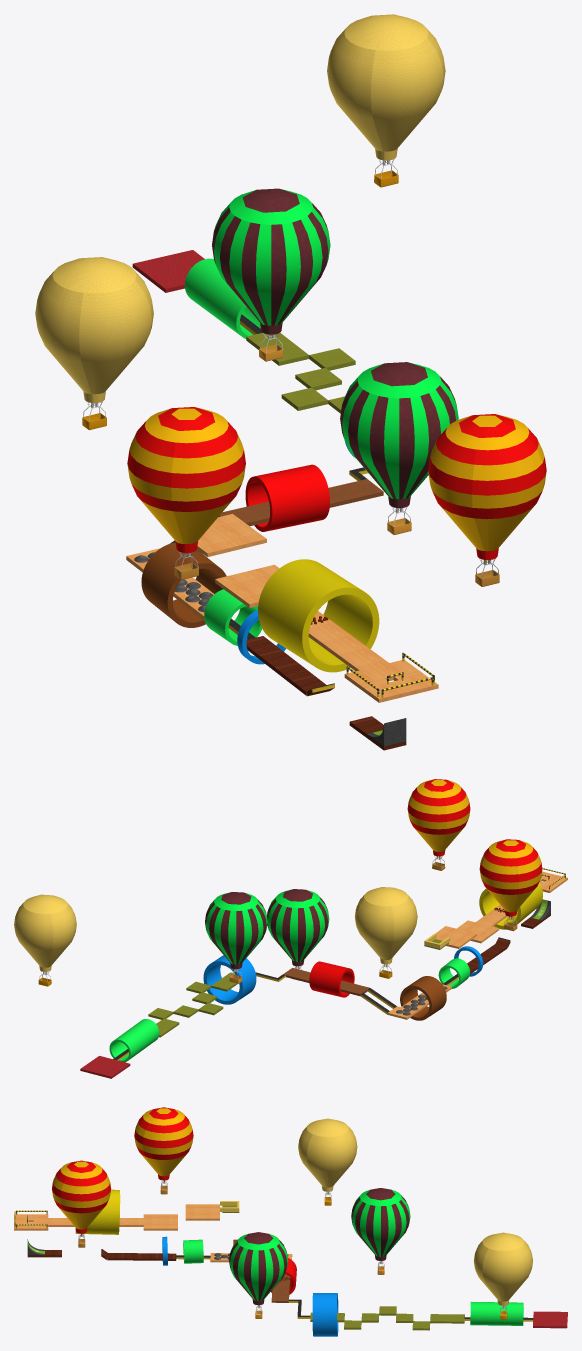
File: LEVEL 13.fbx
3 views of the same model, one above another, from view 1: azimuth 30°, elevation 25°; view 2: azimuth 150°, elevation 25°; view 3: azimuth 270°, elevation 25° (orthographic). The views are drawn at different scales.
Visible parts, largest first — view 1: ballon_1, ballon_3, ballon, ballon_2, ballon_4, ballon_5, yellow_ring, red_ring, orange_ring, polySurface5, green_ring, polySurface10 (+8 smaller); view 2: ballon_2, ballon_1, ballon_4, ballon_3, ballon, ballon_5, polySurface5, blue_ring__1_, green_ring, orange_ring, red_ring, yellow_ring (+7 smaller); view 3: ballon_1, ballon_2, ballon, ballon_4, ballon_3, ballon_5, polySurface5, green_ring, blue_ring__1_, yellow_ring, polySurface18, polySurface17 (+5 smaller).
Part boxes in pixels (left/top/right/bottom): ballon_1: left=127, top=407, right=245, bottom=579; ballon_3: left=212, top=188, right=330, bottom=361; ballon: left=428, top=414, right=546, bottom=586; ballon_2: left=35, top=257, right=153, bottom=430; ballon_4: left=327, top=14, right=445, bottom=187; ballon_5: left=340, top=362, right=458, bottom=534; yellow_ring: left=258, top=559, right=379, bottom=672; red_ring: left=245, top=464, right=329, bottom=531; orange_ring: left=141, top=542, right=226, bottom=627; polySurface5: left=246, top=333, right=355, bottom=413; green_ring: left=185, top=258, right=260, bottom=338; polySurface10: left=308, top=611, right=388, bottom=671; ballon_2: left=355, top=887, right=417, bottom=978; ballon_1: left=479, top=839, right=542, bottom=931; ballon_4: left=14, top=894, right=76, bottom=986; ballon_3: left=205, top=892, right=267, bottom=983; ballon: left=407, top=779, right=470, bottom=870; ballon_5: left=267, top=889, right=329, bottom=980; polySurface5: left=148, top=972, right=237, bottom=1037; blue_ring__1_: left=203, top=955, right=256, bottom=1004; green_ring: left=109, top=1019, right=159, bottom=1062; orange_ring: left=400, top=976, right=446, bottom=1020; red_ring: left=309, top=961, right=354, bottom=997; yellow_ring: left=479, top=882, right=542, bottom=929; ballon_1: left=134, top=1107, right=193, bottom=1194; ballon_2: left=298, top=1118, right=357, bottom=1205; ballon: left=52, top=1160, right=110, bottom=1247; ballon_4: left=474, top=1232, right=532, bottom=1319; ballon_3: left=351, top=1188, right=410, bottom=1274; ballon_5: left=229, top=1232, right=288, bottom=1318; polySurface5: left=310, top=1306, right=464, bottom=1330; green_ring: left=470, top=1302, right=523, bottom=1325; blue_ring__1_: left=312, top=1293, right=338, bottom=1336; yellow_ring: left=75, top=1189, right=120, bottom=1234; polySurface18: left=533, top=1311, right=567, bottom=1328; polySurface17: left=143, top=1214, right=177, bottom=1230.
Size of the model in its own units: 8644 by 3832 by 12922.
Materials: 33 (21 with a texture image).
